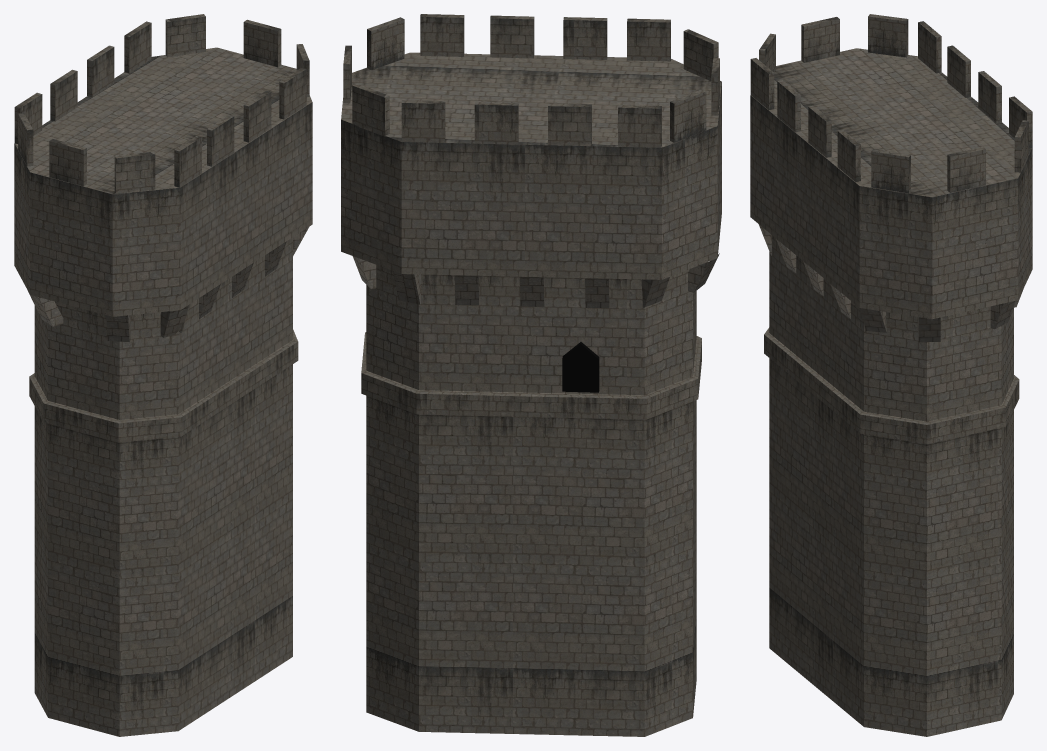
File: Castle_Side_3.glb
3 views of the same model, side by side, from view 1: azimuth 30°, elevation 25°; view 2: azimuth 150°, elevation 25°; view 3: azimuth 270°, elevation 25° (orthographic). The views are drawn at different scales.
Visible parts, largest first — view 1: SM_Castle_Side_3; view 2: SM_Castle_Side_3; view 3: SM_Castle_Side_3.
Part boxes in pixels (box(x1,y1,x2,y2)): SM_Castle_Side_3: box(14, 14, 312, 736); SM_Castle_Side_3: box(341, 14, 721, 736); SM_Castle_Side_3: box(750, 14, 1032, 736).
Size of the model in its own units: 25.83 by 47.25 by 20.63.
Materials: 2 (1 with a texture image).
